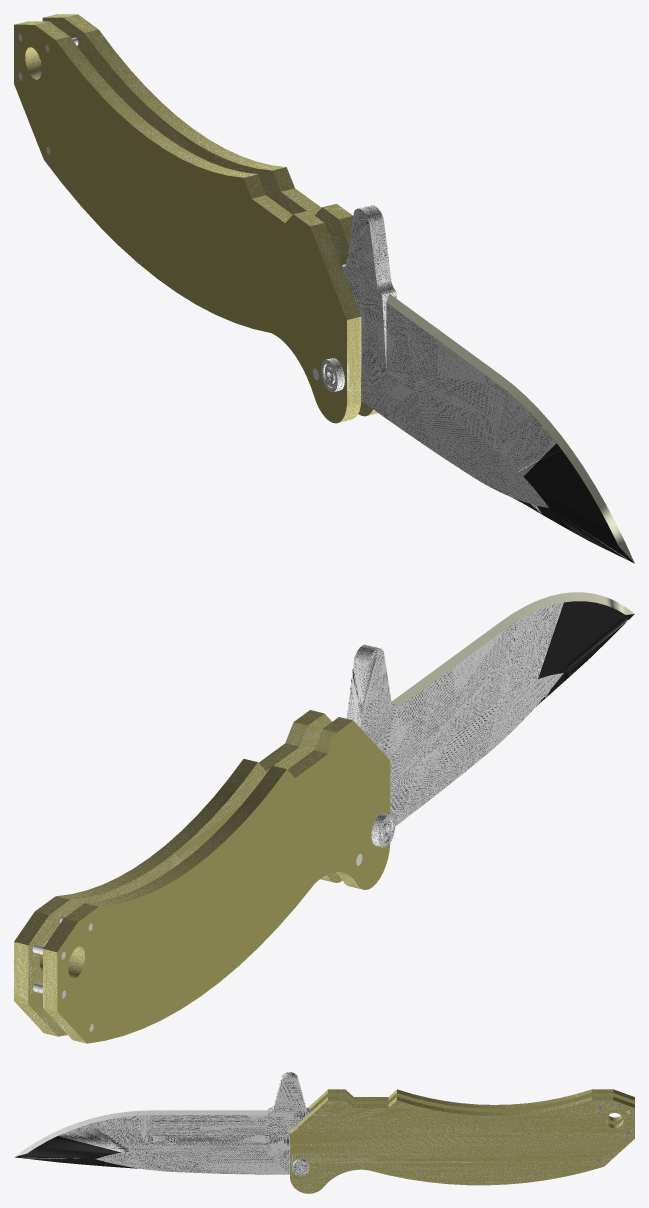
The model's file is model_scale.obj.
3 renders of one model, top to bottom at view 1: azimuth 30°, elevation 25°; view 2: azimuth 150°, elevation 25°; view 3: azimuth 270°, elevation 25°, orthographic. The views are drawn at different scales.
Parts seen in each view (by area): view 1: mesh1_mesh1-geometry; view 2: mesh1_mesh1-geometry, mesh2_mesh2-geometry; view 3: mesh1_mesh1-geometry.
Part boxes in pixels (bbox=[...]): mesh1_mesh1-geometry: bbox=[14, 14, 634, 563]; mesh1_mesh1-geometry: bbox=[14, 592, 634, 1043]; mesh2_mesh2-geometry: bbox=[371, 813, 395, 847]; mesh1_mesh1-geometry: bbox=[14, 1072, 634, 1193].
Size of the model in its own units: 0.012 by 0.0441 by 0.2166.
